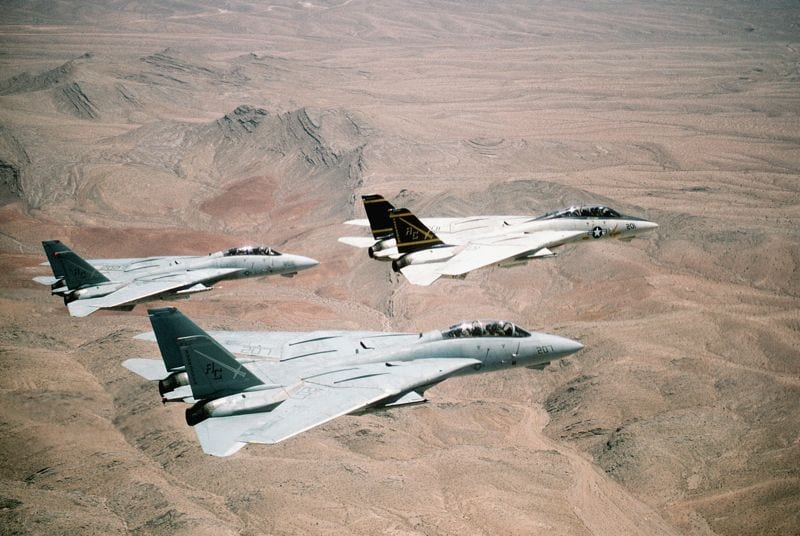F14: (120, 304, 591, 457), (337, 193, 661, 287), (31, 239, 328, 318)
